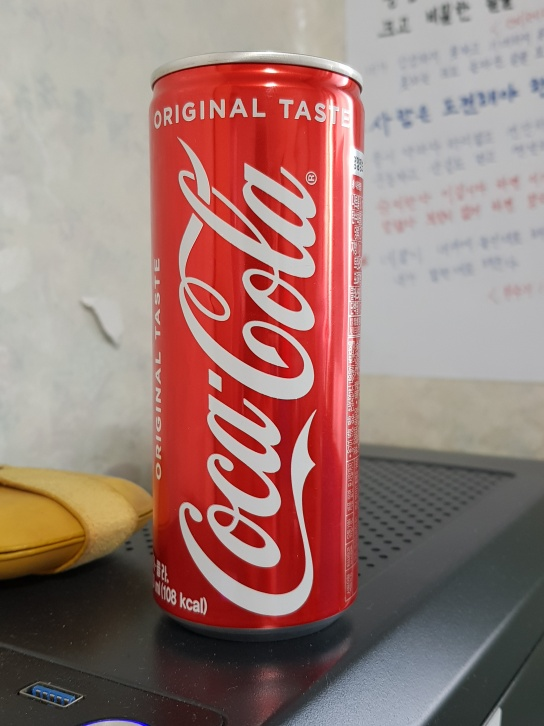Can: (147, 50, 364, 636)
